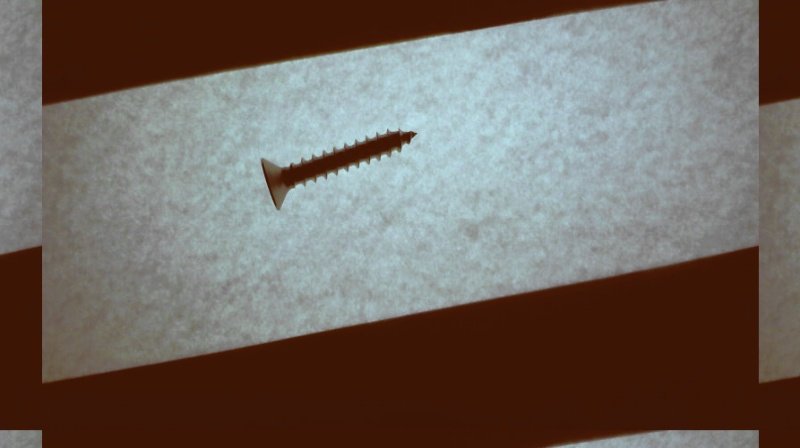S001: (259, 126, 419, 212)
